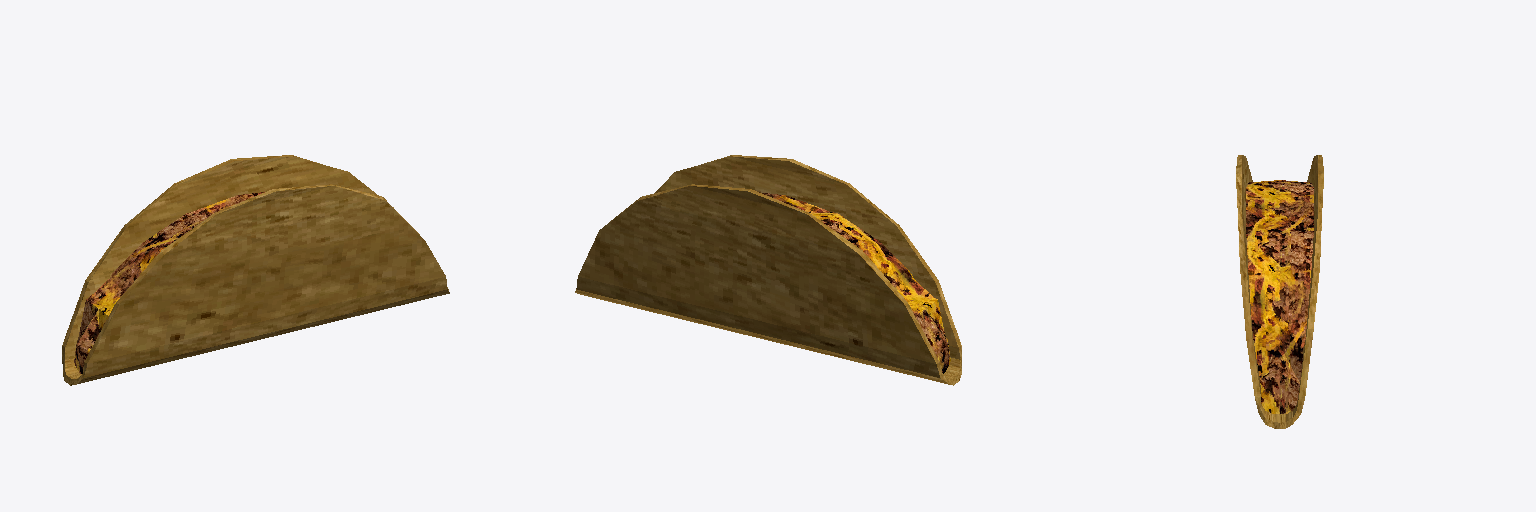
3 renders of one model, left to right at view 1: azimuth 30°, elevation 25°; view 2: azimuth 150°, elevation 25°; view 3: azimuth 270°, elevation 25°, orthographic.
Visible parts, largest first — view 1: Mesh_0476.rip_Tex_018; view 2: Mesh_0476.rip_Tex_018; view 3: Mesh_0476.rip_Tex_018.
Boxes of the visible parts, x1,y1,x2,y2 form: Mesh_0476.rip_Tex_018: [62, 155, 449, 385]; Mesh_0476.rip_Tex_018: [575, 155, 961, 385]; Mesh_0476.rip_Tex_018: [1236, 155, 1323, 428].
Size of the model in its own units: 0.206 by 0.085 by 0.042.
1 materials, 1 textured.